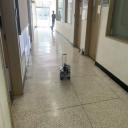cart: (59, 65, 71, 81)
